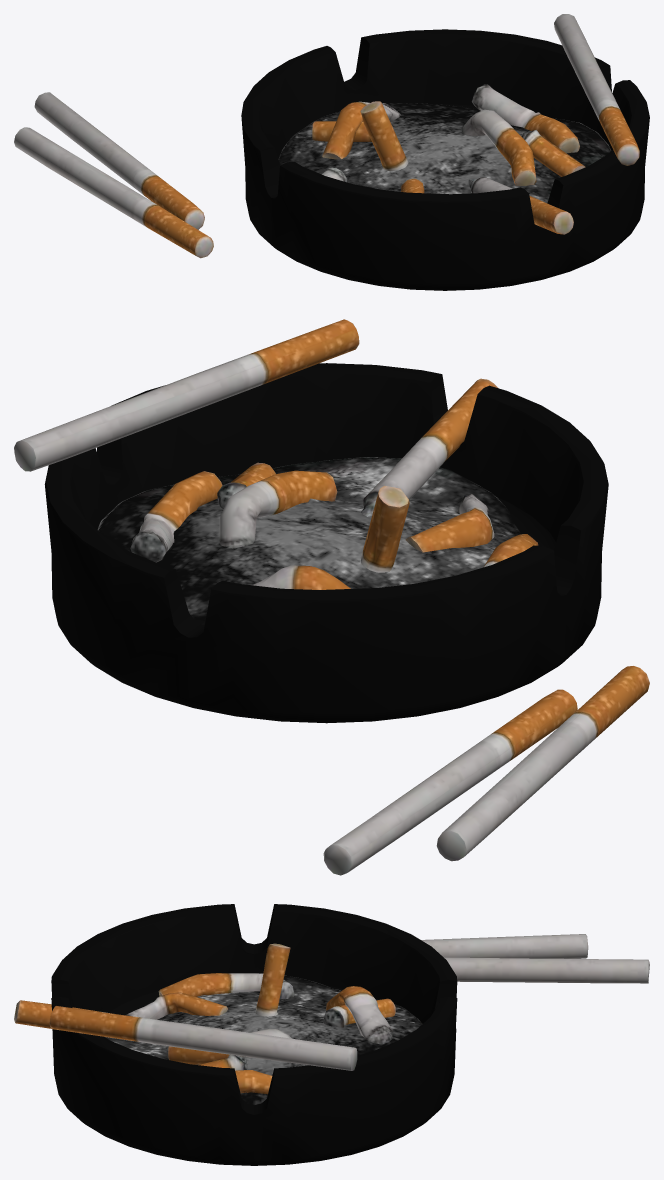
The model's file is ashtray.glb.
The picture shows the model from 3 angles, top to bottom: view 1: azimuth 30°, elevation 25°; view 2: azimuth 150°, elevation 25°; view 3: azimuth 270°, elevation 25°; orthographic projection. The views are drawn at different scales.
Parts seen in each view (by area): view 1: Ashtray_01 - Default_0; view 2: Ashtray_01 - Default_0; view 3: Ashtray_01 - Default_0.
Part boxes in pixels (left/top/right/bottom): Ashtray_01 - Default_0: left=14, top=14, right=649, bottom=290; Ashtray_01 - Default_0: left=14, top=319, right=649, bottom=875; Ashtray_01 - Default_0: left=14, top=904, right=649, bottom=1165.
Size of the model in its own units: 0.1362 by 0.0347 by 0.1675.
1 material, 1 textured.
